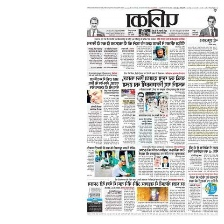news_paper: (85, 4, 218, 217)
